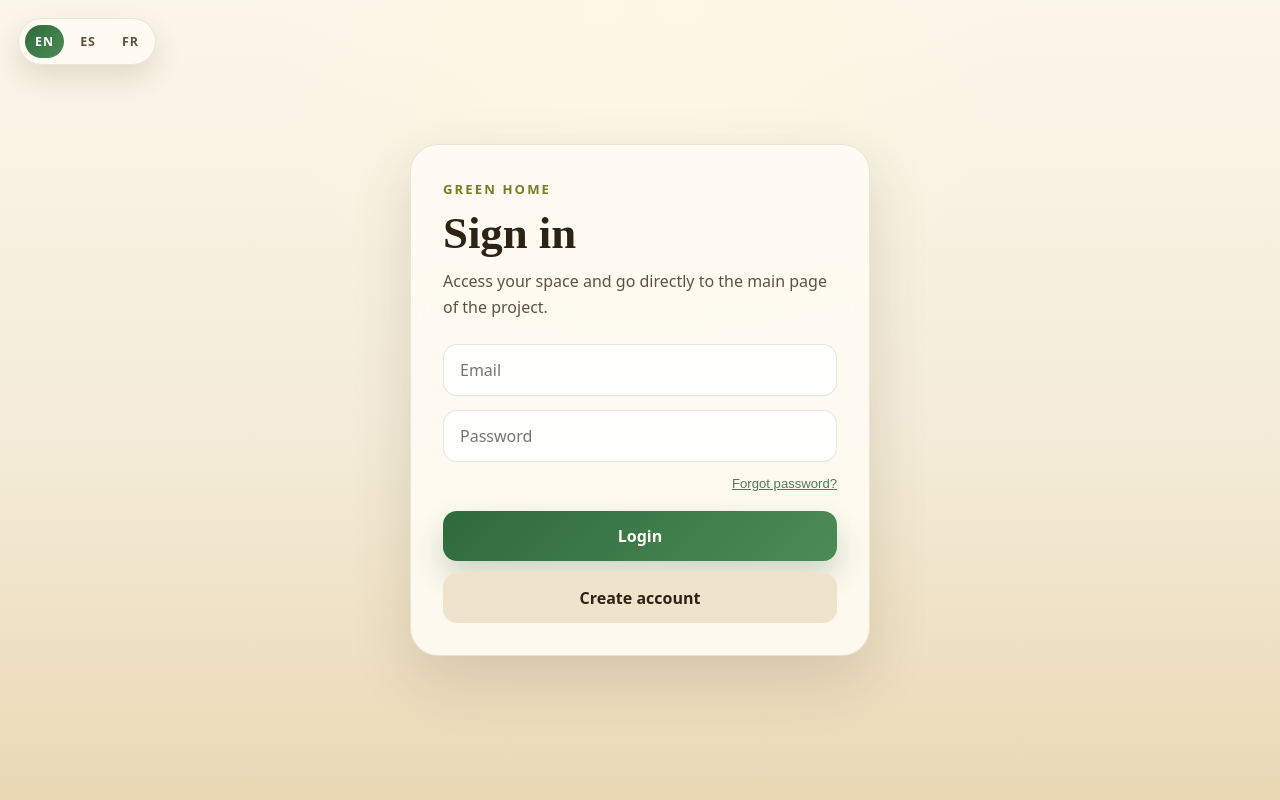
Scenario: App routing › navigates back to Login when Back to login is clicked from Register
Click the button "Create account" at (640, 598), box 443,573 -> 837,623
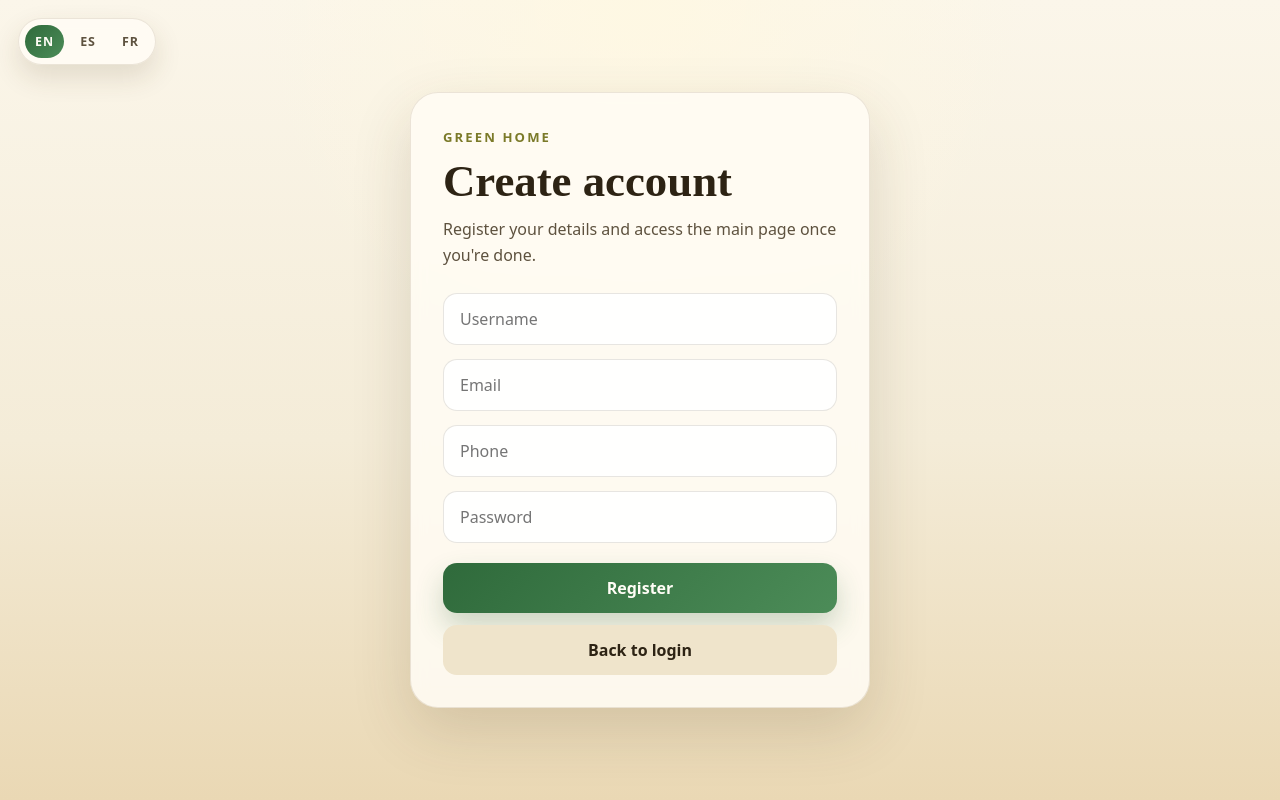
Click the button "Back to login" at (640, 650), box 443,625 -> 837,675
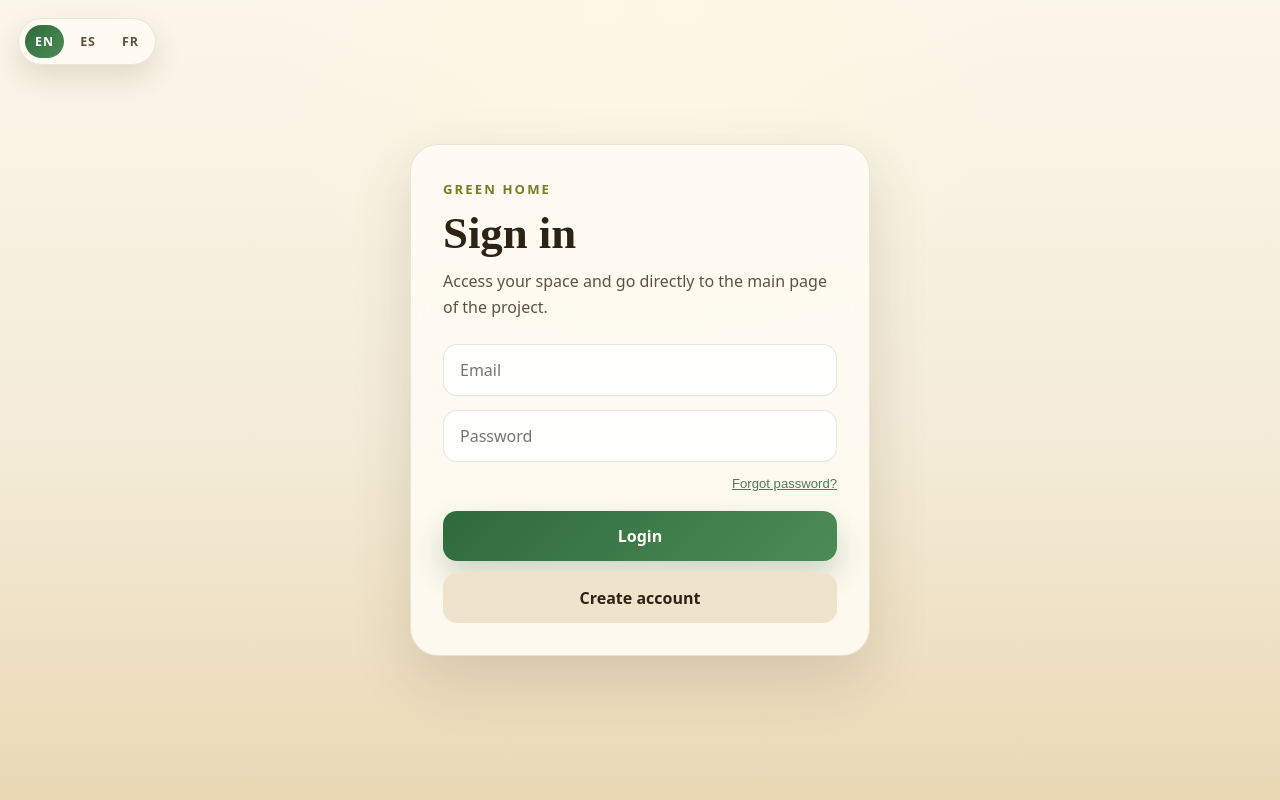
Expected: the heading "Sign in" is shown, 443,208 -> 576,258
